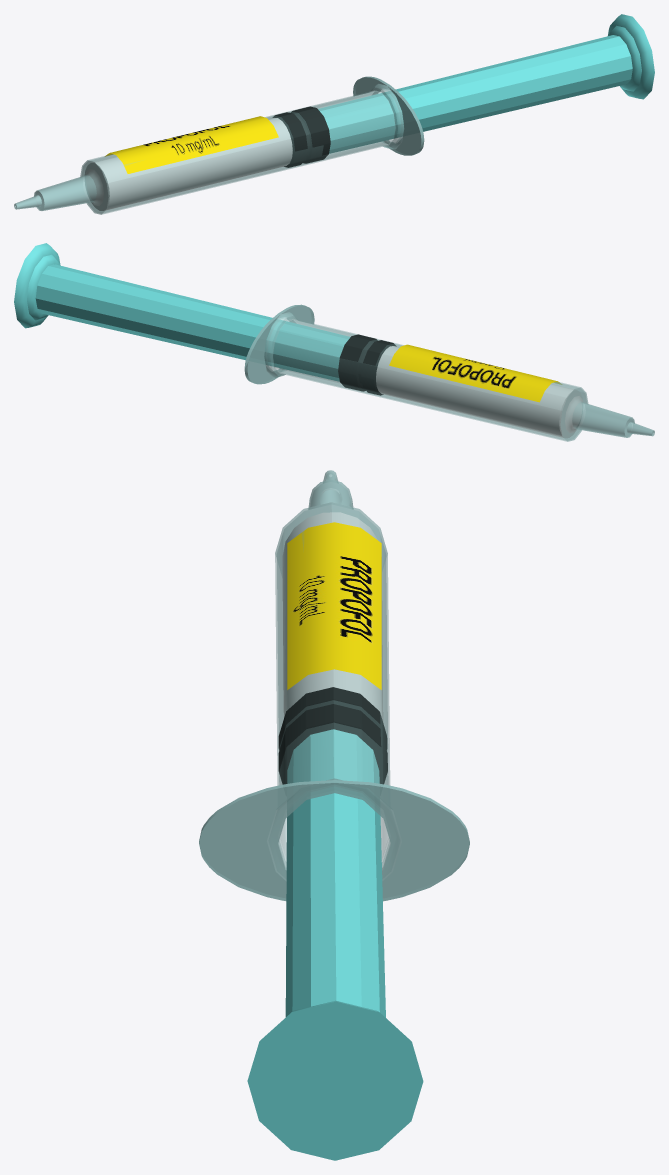
File: SyringePropofol.FBX
The picture shows the model from 3 angles, top to bottom: view 1: azimuth 30°, elevation 25°; view 2: azimuth 150°, elevation 25°; view 3: azimuth 270°, elevation 25°; orthographic projection. The views are drawn at different scales.
Parts seen in each view (by area): view 1: pusher, body, drug, Plane001, head, protector, trigger001; view 2: pusher, body, drug, Plane001, head, protector, trigger001; view 3: pusher, trigger001, protector, body, Plane001, drug, head.
Part boxes in pixels (left/top/right/bottom): pusher: left=272, top=35, right=632, bottom=167; body: left=82, top=91, right=395, bottom=214; drug: left=85, top=118, right=292, bottom=210; Plane001: left=105, top=116, right=278, bottom=173; head: left=14, top=160, right=108, bottom=214; protector: left=353, top=76, right=424, bottom=155; trigger001: left=608, top=14, right=654, bottom=99; pusher: left=35, top=264, right=396, bottom=395; body: left=273, top=319, right=586, bottom=441; drug: left=376, top=346, right=582, bottom=437; Plane001: left=389, top=344, right=561, bottom=402; head: left=560, top=387, right=654, bottom=441; protector: left=244, top=304, right=314, bottom=384; trigger001: left=14, top=243, right=60, bottom=328; pusher: left=278, top=687, right=387, bottom=1017; trigger001: left=247, top=1000, right=423, bottom=1160; protector: left=199, top=778, right=469, bottom=901; body: left=275, top=502, right=389, bottom=861; Plane001: left=287, top=522, right=381, bottom=689; drug: left=282, top=512, right=383, bottom=722; head: left=275, top=470, right=387, bottom=573.
Bounding box in the file's own units: 13.09 × 1.62 × 2.49.
Materials: 8 (1 with a texture image).
